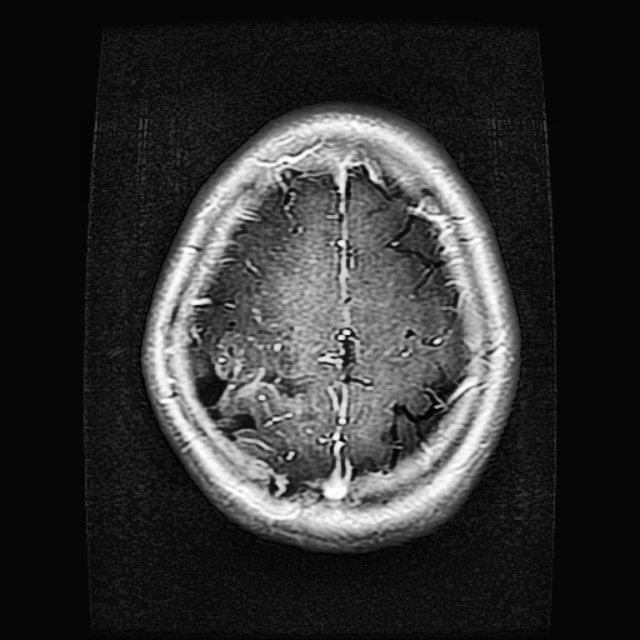Glioma: (194, 325, 305, 473)
